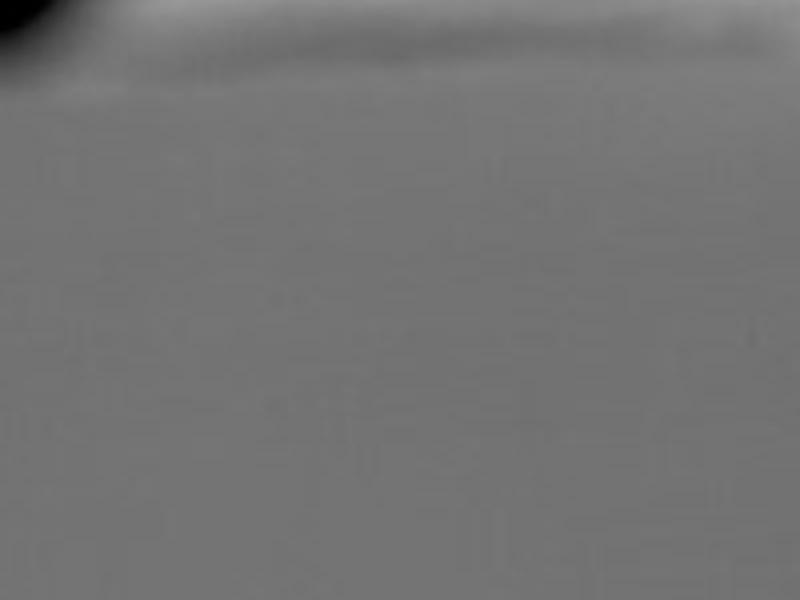defect: (1, 2, 68, 41)
